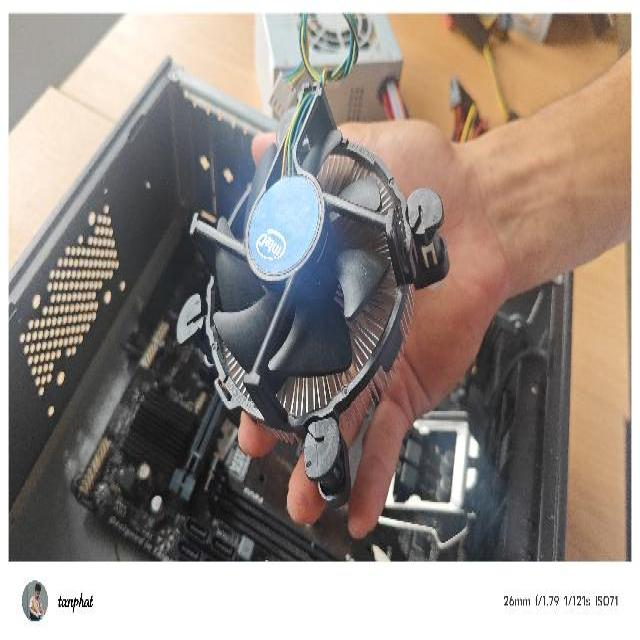CPU_Fan: (175, 61, 450, 513)
